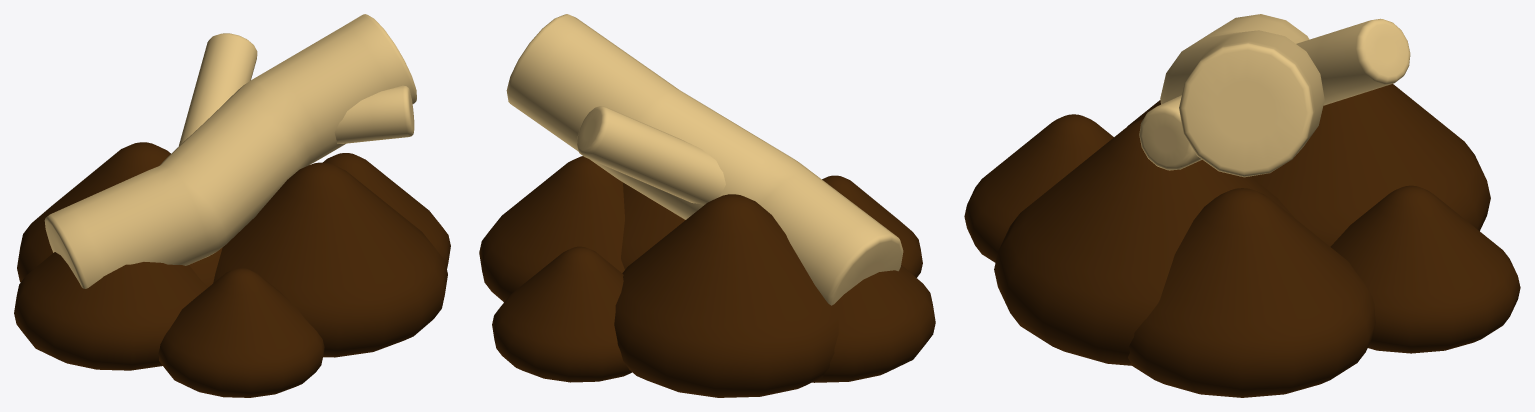
Rendered from LastLuna_Model_Node_Dirt_Driftwood.fbx.
3 views of the same model, side by side, from view 1: azimuth 30°, elevation 25°; view 2: azimuth 150°, elevation 25°; view 3: azimuth 270°, elevation 25° (orthographic). The views are drawn at different scales.
Parts seen in each view (by area): view 1: Driftwood_Log001, Soil_Pile004, Soil_Pile001, Soil_Pile006, Soil_Pile003, Soil_Pile002; view 2: Driftwood_Log001, Soil_Pile003, Soil_Pile005, Soil_Pile002, Soil_Pile001, Soil_Pile004, Soil_Pile006; view 3: Soil_Pile002, Soil_Pile004, Driftwood_Log001, Soil_Pile005, Soil_Pile003, Soil_Pile006.
Boxes of the visible parts, x1,y1,x2,y2 form: Driftwood_Log001: (44,14,416,288); Soil_Pile004: (213,162,447,357); Soil_Pile001: (14,252,208,370); Soil_Pile006: (158,268,324,397); Soil_Pile003: (17,142,222,286); Soil_Pile002: (323,153,450,268); Driftwood_Log001: (506,14,903,305); Soil_Pile003: (614,194,838,397); Soil_Pile005: (492,246,631,382); Soil_Pile002: (479,156,624,301); Soil_Pile001: (812,265,935,382); Soil_Pile004: (621,182,685,269); Soil_Pile006: (822,175,922,277); Soil_Pile002: (1128,188,1375,397); Soil_Pile004: (994,119,1295,365); Driftwood_Log001: (1139,14,1410,177); Soil_Pile005: (1330,185,1520,353); Soil_Pile003: (1251,84,1490,246); Soil_Pile006: (964,114,1113,262).
Size of the model in its own units: 35.64 by 21.13 by 32.45.
